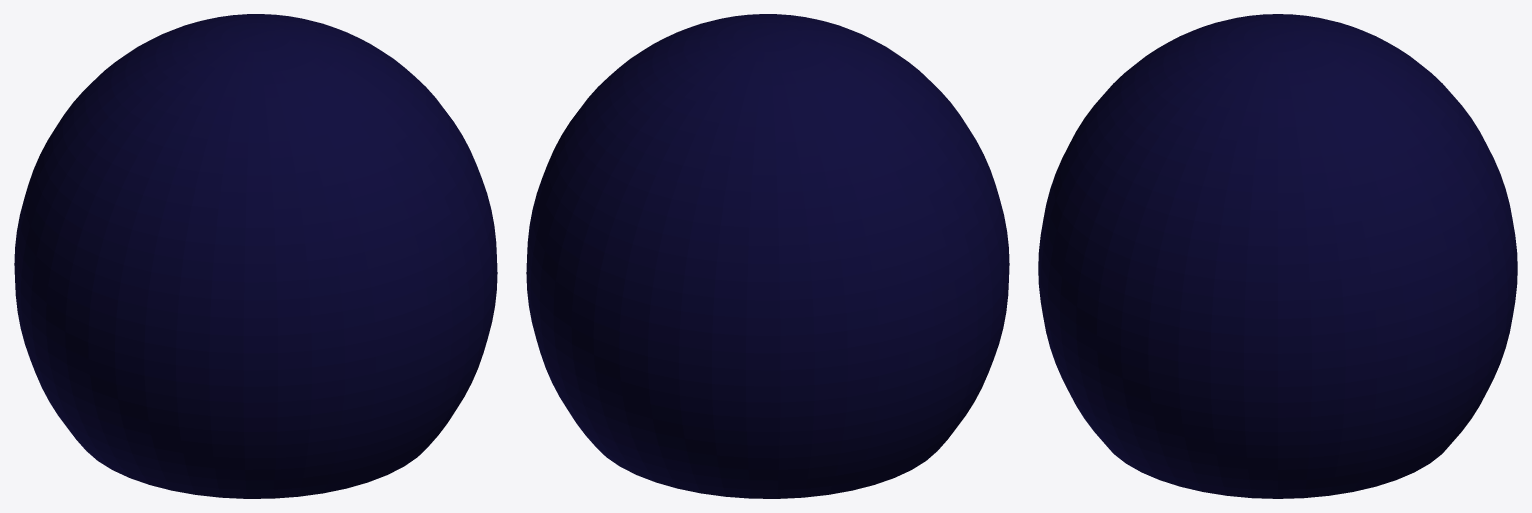
The model's file is движение.dae.
3 renders of one model, left to right at view 1: azimuth 30°, elevation 25°; view 2: azimuth 150°, elevation 25°; view 3: azimuth 270°, elevation 25°, orthographic.
Parts seen in each view (by area): view 1: Sphere; view 2: Sphere; view 3: Sphere.
Part boxes in pixels (x1,y1,x2,y2): Sphere: (14, 14, 497, 498); Sphere: (526, 14, 1009, 498); Sphere: (1038, 14, 1517, 498).
Bounding box in the file's own units: 1.96 × 1.95 × 1.73.
